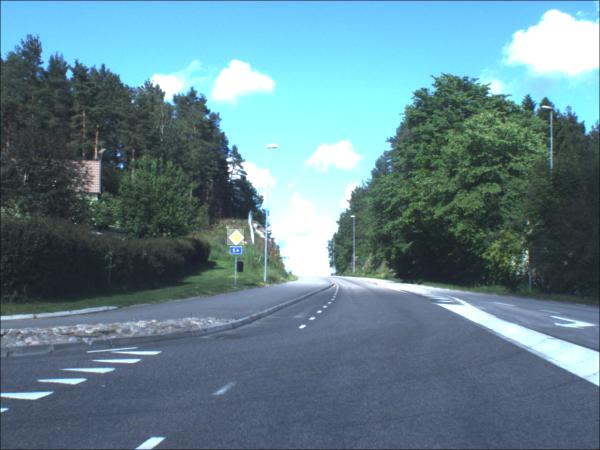PRIORITY_ROAD: (227, 230, 245, 247)
